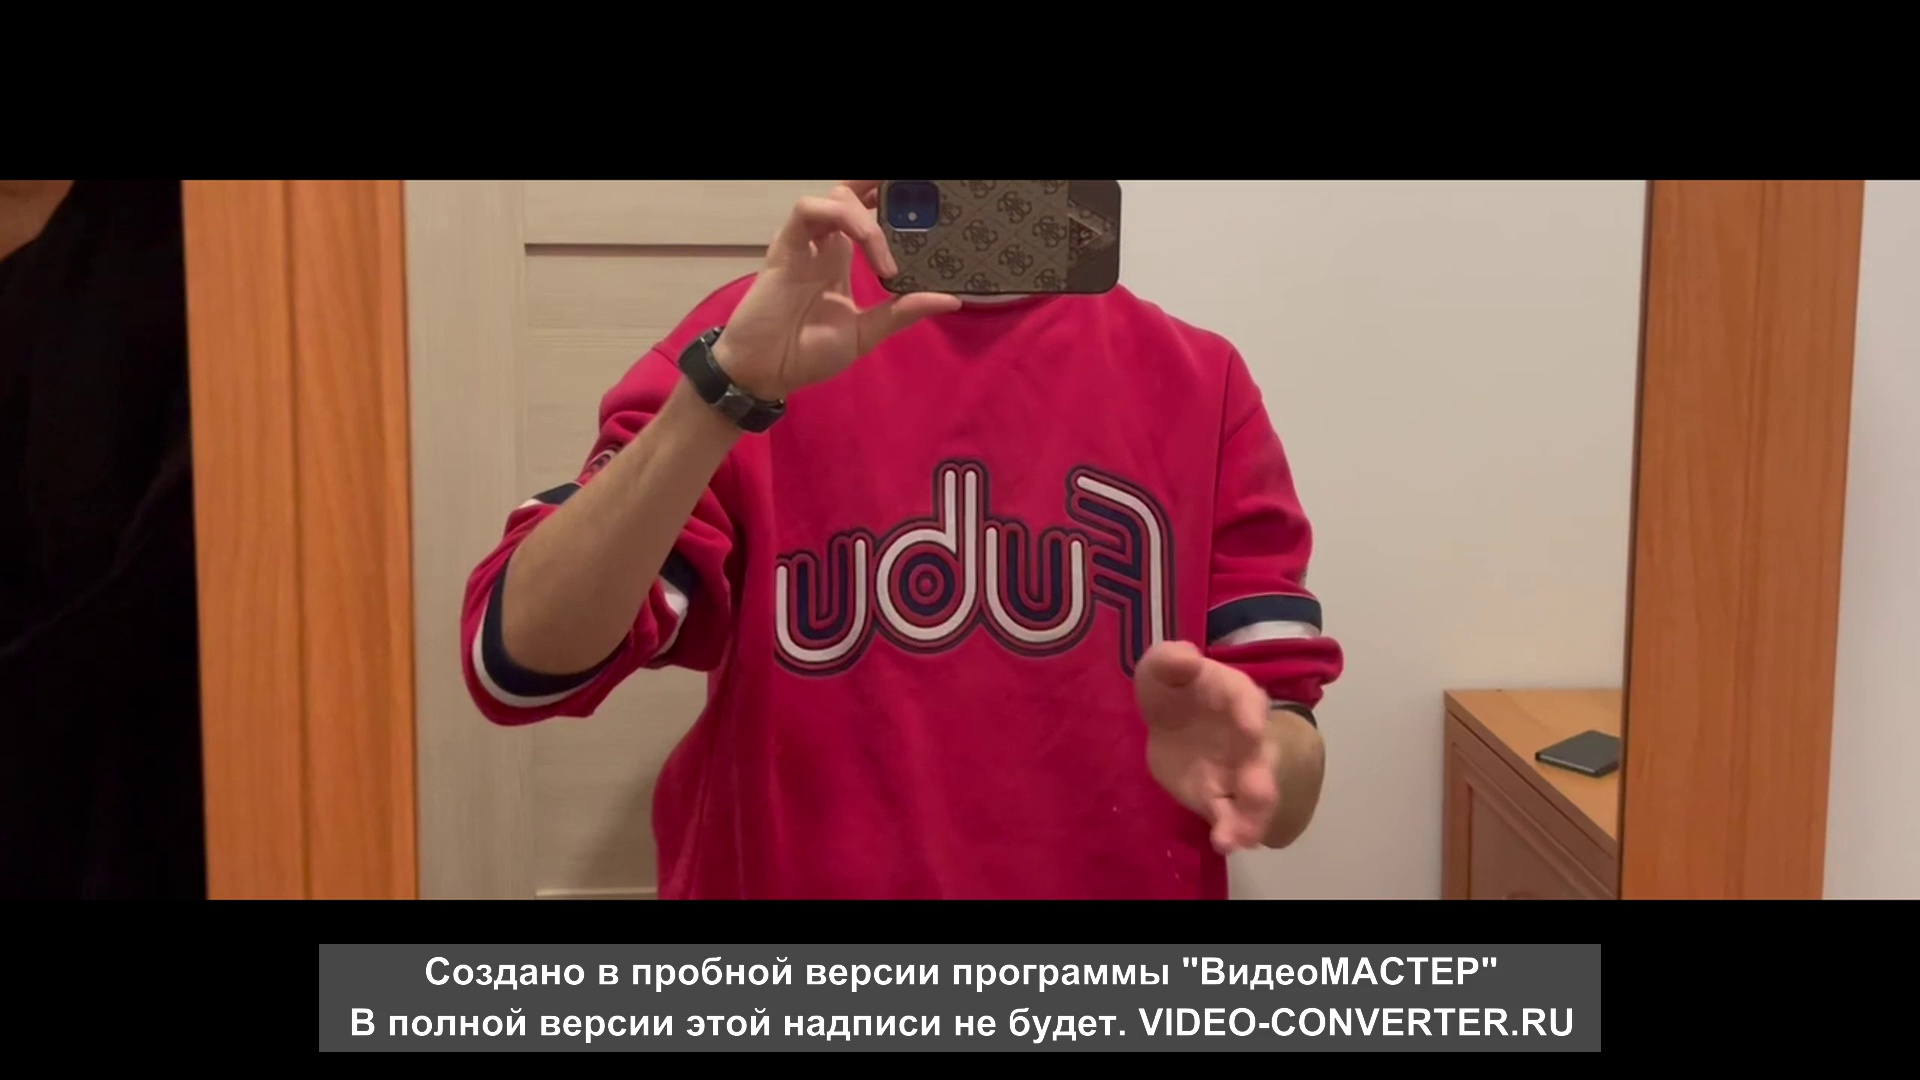Ладонь: (1130, 640, 1275, 852)
